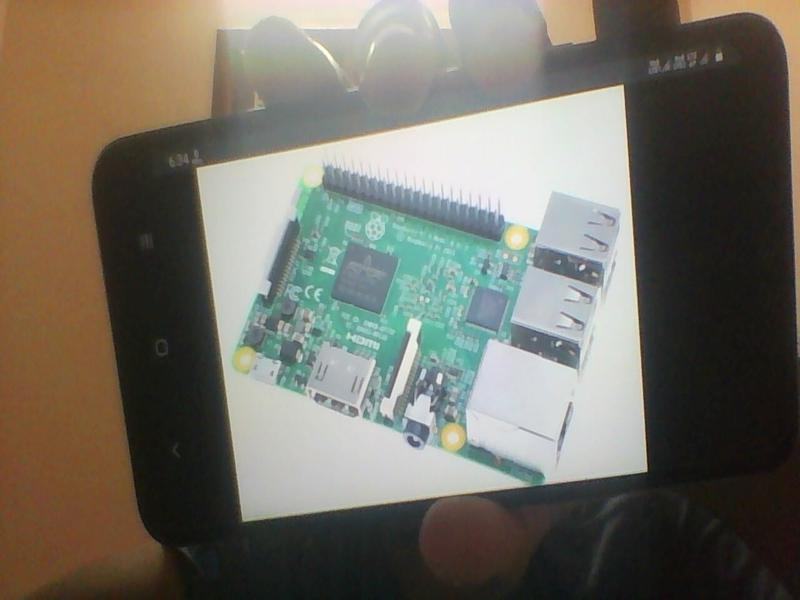aud: (405, 360, 451, 452)
eth: (465, 340, 580, 463)
usb: (514, 269, 604, 355), (532, 192, 620, 274)
